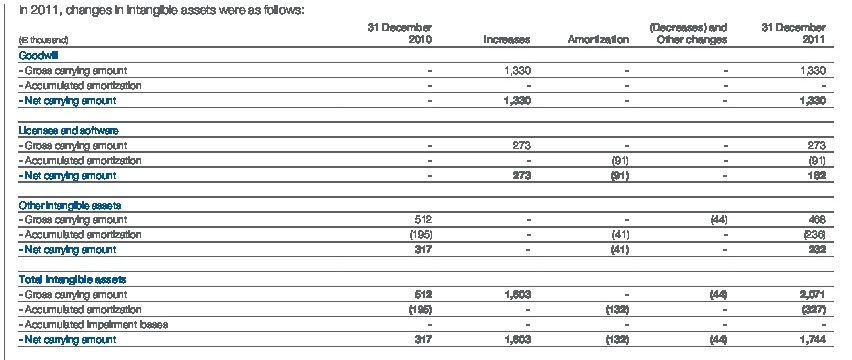table: (0, 0, 852, 360)
